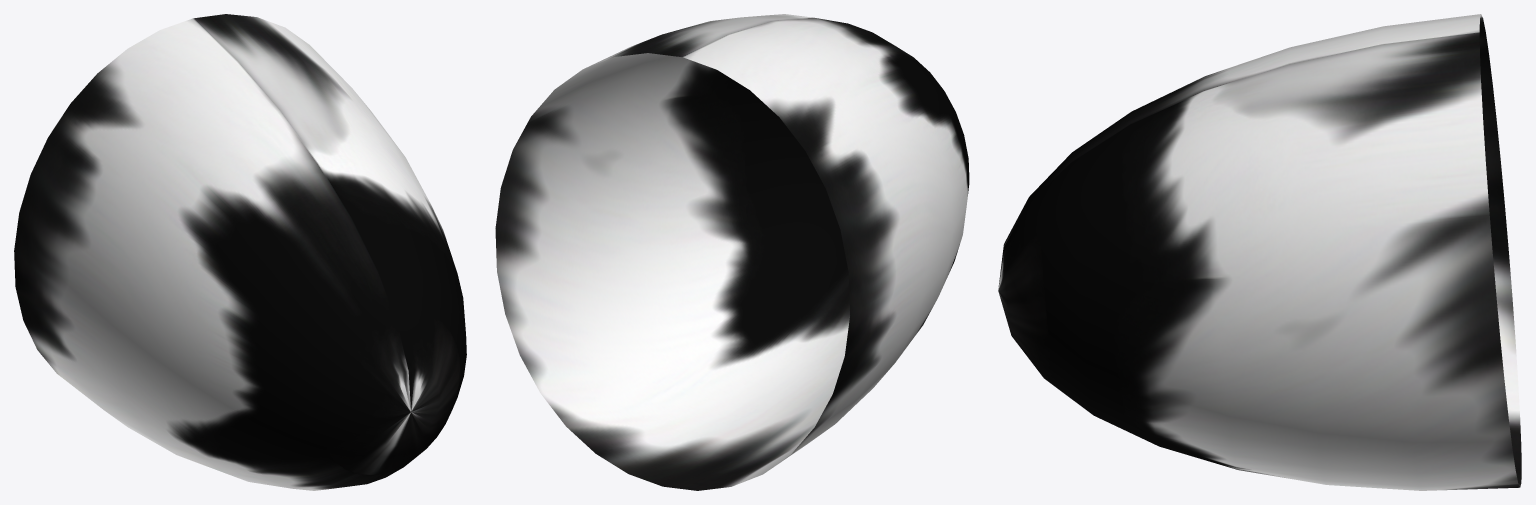
File: wind3.FBX
The picture shows the model from 3 angles, left to right: view 1: azimuth 30°, elevation 25°; view 2: azimuth 150°, elevation 25°; view 3: azimuth 270°, elevation 25°; orthographic projection. The views are drawn at different scales.
Parts seen in each view (by area): view 1: Sphere003; view 2: Sphere003; view 3: Sphere003.
Boxes of the visible parts, box(x1,y1,x2,y2) form: Sphere003: box(14, 14, 466, 490); Sphere003: box(495, 14, 969, 490); Sphere003: box(998, 14, 1521, 490).
Size of the model in its own units: 171 by 193 by 207.
Materials: 1 (1 with a texture image).
